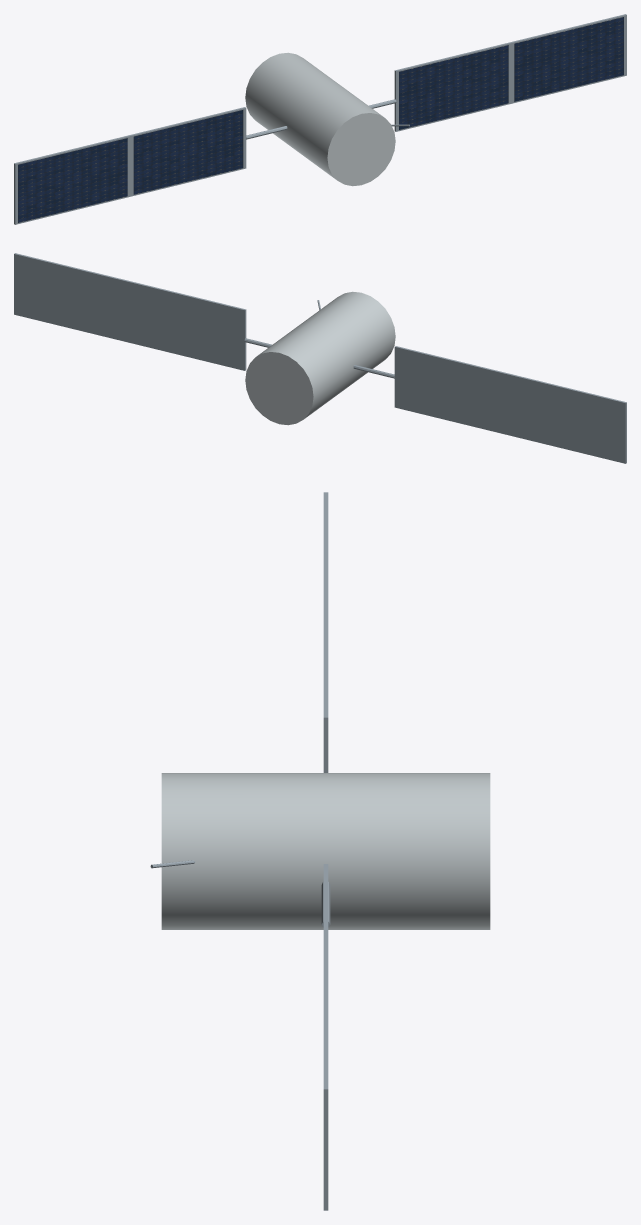
The model's file is ref-okean-14372.glb.
The picture shows the model from 3 angles, top to bottom: view 1: azimuth 30°, elevation 25°; view 2: azimuth 150°, elevation 25°; view 3: azimuth 270°, elevation 25°; orthographic projection. The views are drawn at different scales.
Visible parts, largest first — view 1: Photovoltaic laminates (×4), Spacecraft body, Array frame (×4); view 2: Array frame (×4), Spacecraft body; view 3: Spacecraft body, Array frame (×2).
Part boxes in pixels (bbox=[...]): Photovoltaic laminates (×4): bbox=[18, 17, 623, 222]; Spacecraft body: bbox=[245, 52, 395, 186]; Array frame (×4): bbox=[14, 14, 626, 224]; Array frame (×4): bbox=[14, 253, 626, 463]; Spacecraft body: bbox=[245, 291, 395, 425]; Spacecraft body: bbox=[161, 773, 490, 929]; Array frame (×2): bbox=[323, 605, 328, 1210].
Bounding box in the file's own units: 21.5 × 2.4 × 5.17.
Materials: 3 (1 with a texture image).
